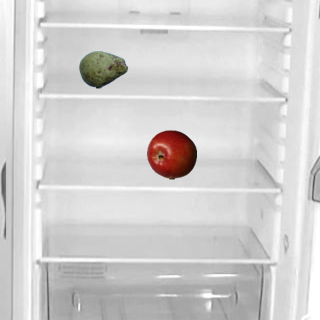Apple Braeburn: (146, 129, 196, 179)
Pear Stone: (78, 44, 128, 94)
